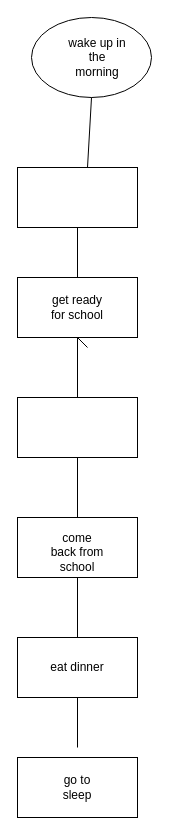
Image size: 169x835. Some labels were removed from this diagram. The shapes that lost their labels are listed below. From the top down, each one's centre as x and y in pixels, then its label:
the point at 77,197: shower
the point at 77,427: go to school
